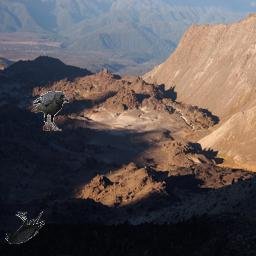Crow: (31, 91, 69, 131), (5, 211, 45, 244)
